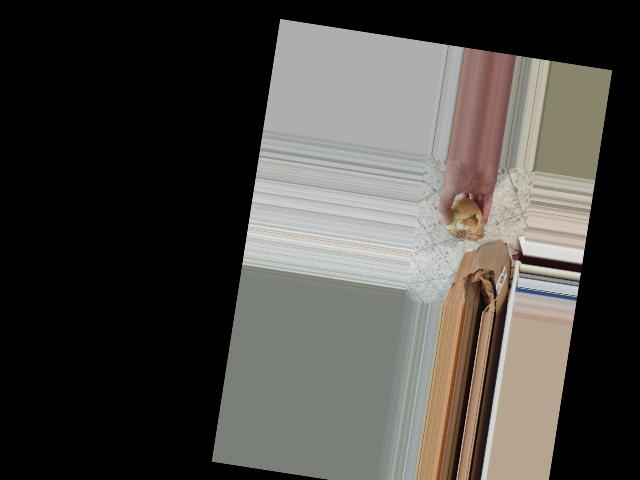onion: (438, 193, 490, 244)
